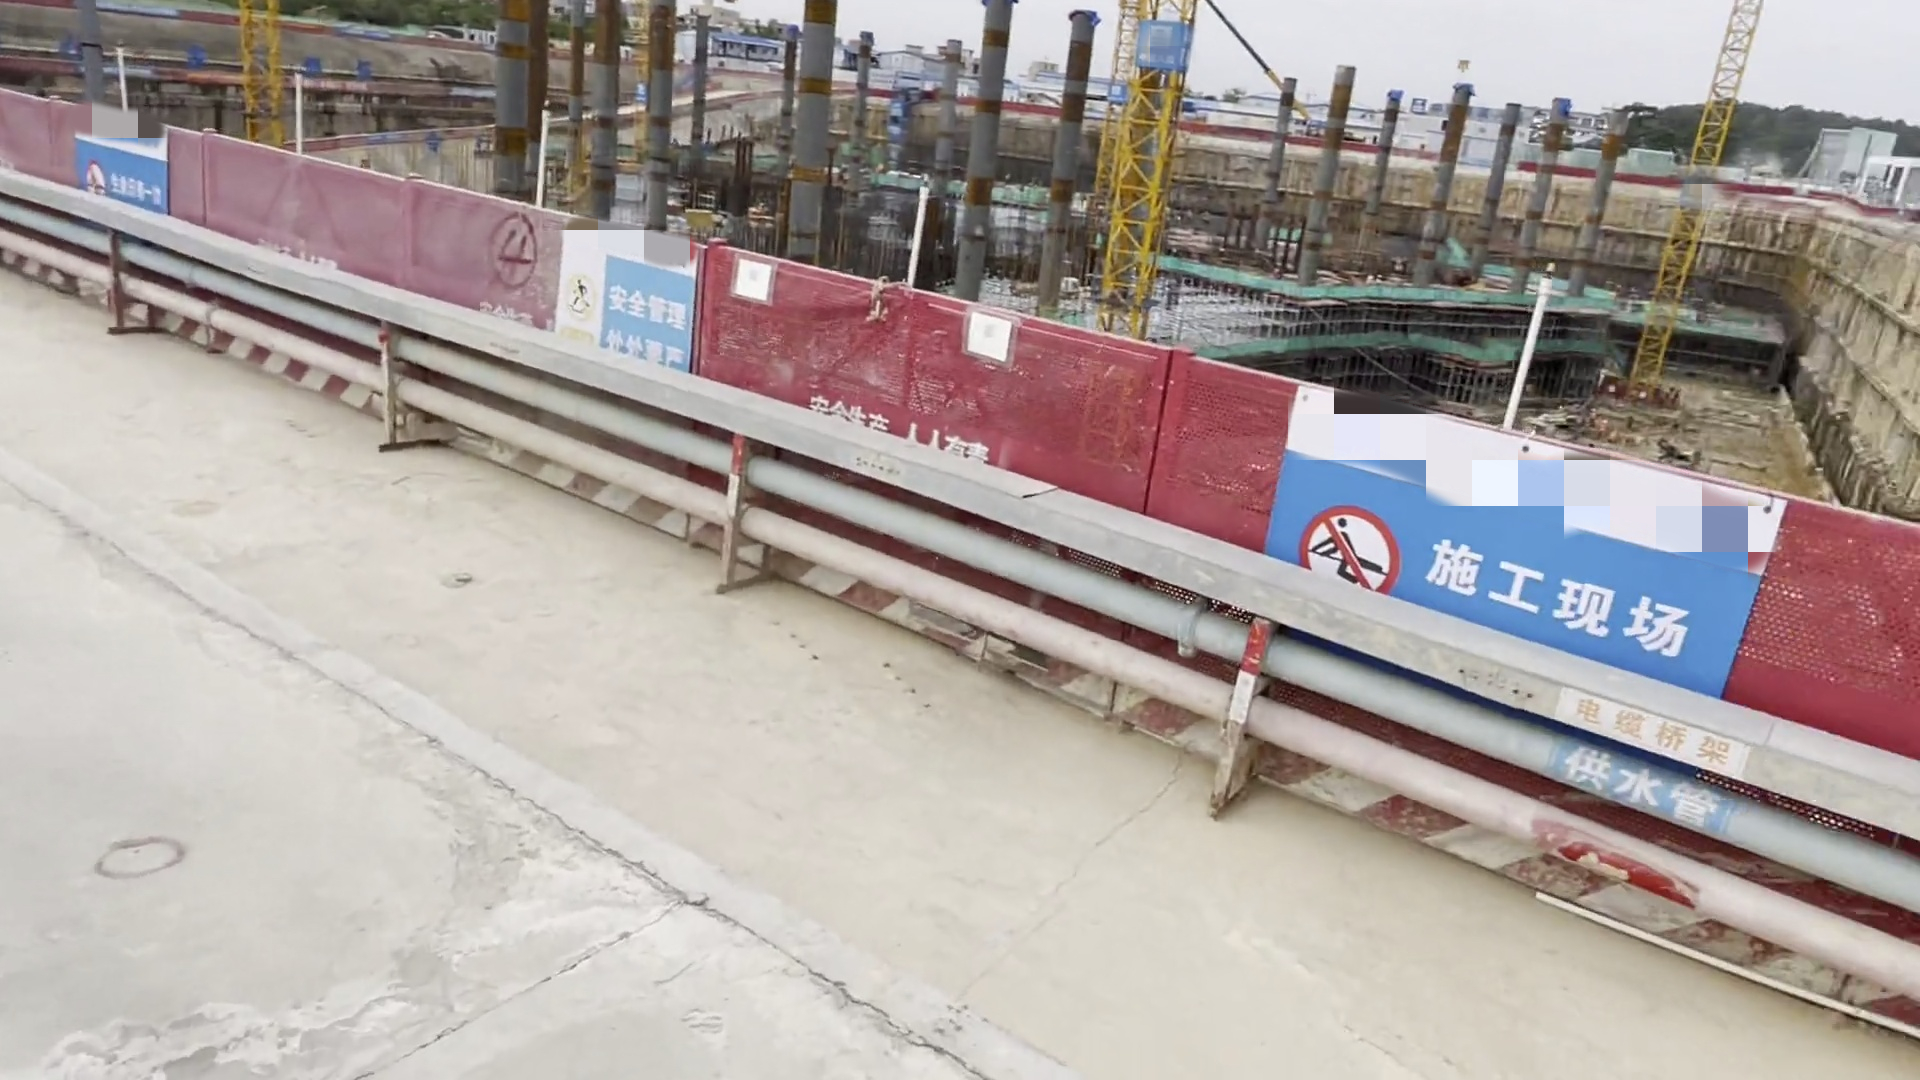fence: (702, 245, 1920, 1075)
slogan: (1255, 458, 1775, 708), (555, 265, 698, 382), (76, 137, 169, 219)
